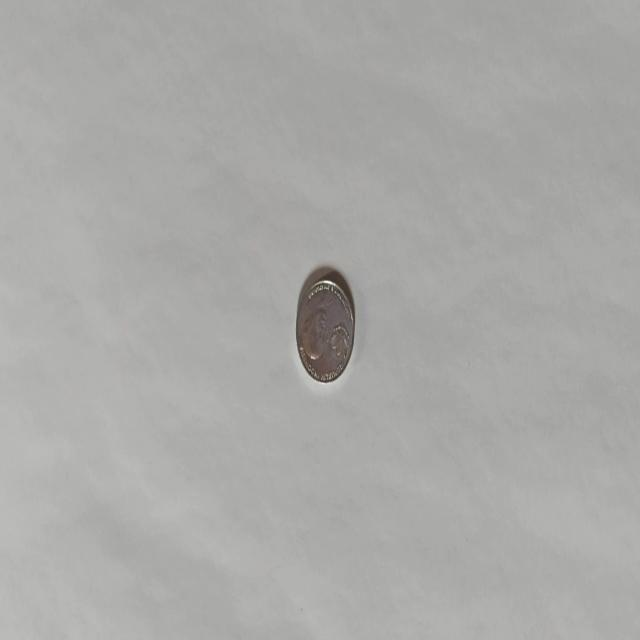lima ratus rupiah: (294, 271, 356, 384)
